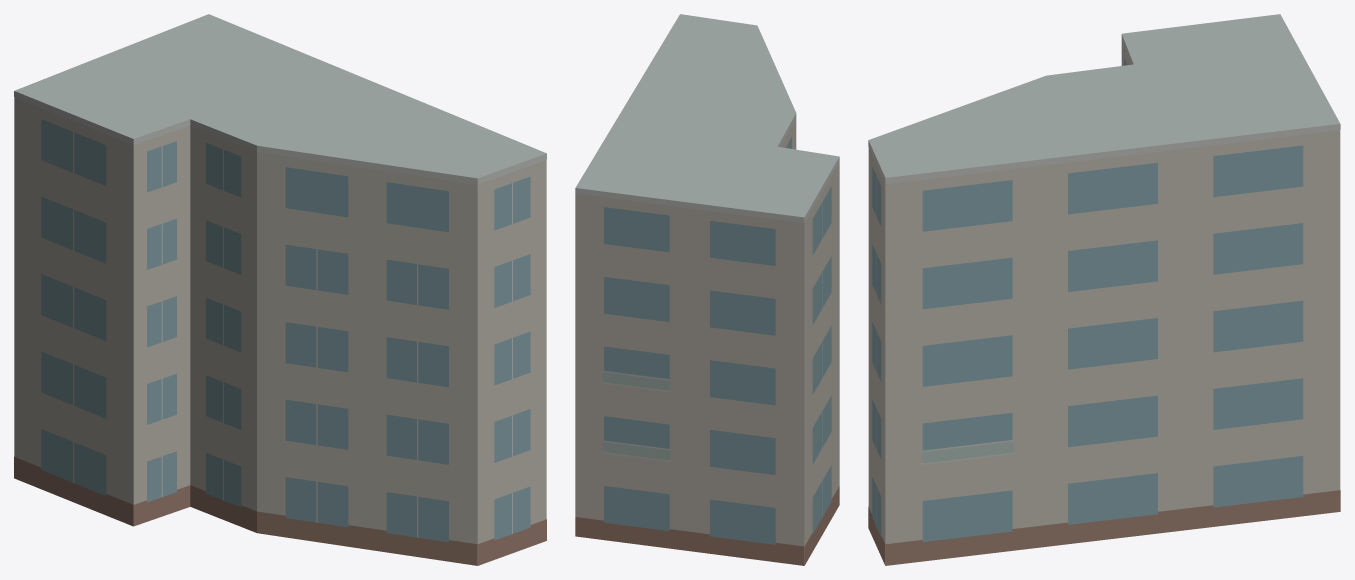
File: survey-upis-32958500.glb
The picture shows the model from 3 angles, left to right: view 1: azimuth 30°, elevation 25°; view 2: azimuth 150°, elevation 25°; view 3: azimuth 270°, elevation 25°; orthographic projection. The views are drawn at different scales.
Parts seen in each view (by area): view 1: survey-upis-32958500.tmp; view 2: survey-upis-32958500.tmp; view 3: survey-upis-32958500.tmp.
Boxes of the visible parts, left/top/right/bottom form: survey-upis-32958500.tmp: left=14, top=14, right=546, bottom=565; survey-upis-32958500.tmp: left=575, top=14, right=839, bottom=565; survey-upis-32958500.tmp: left=868, top=14, right=1340, bottom=565.
Bounding box in the file's own units: 13.6 × 15 × 16.55.
